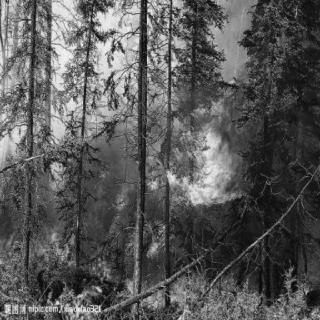Fire: (3, 174, 241, 302), (162, 86, 260, 207)
